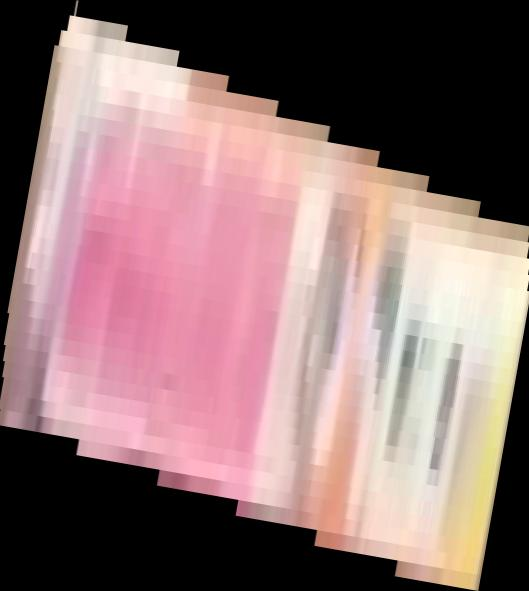flat: (1, 1, 529, 591)
